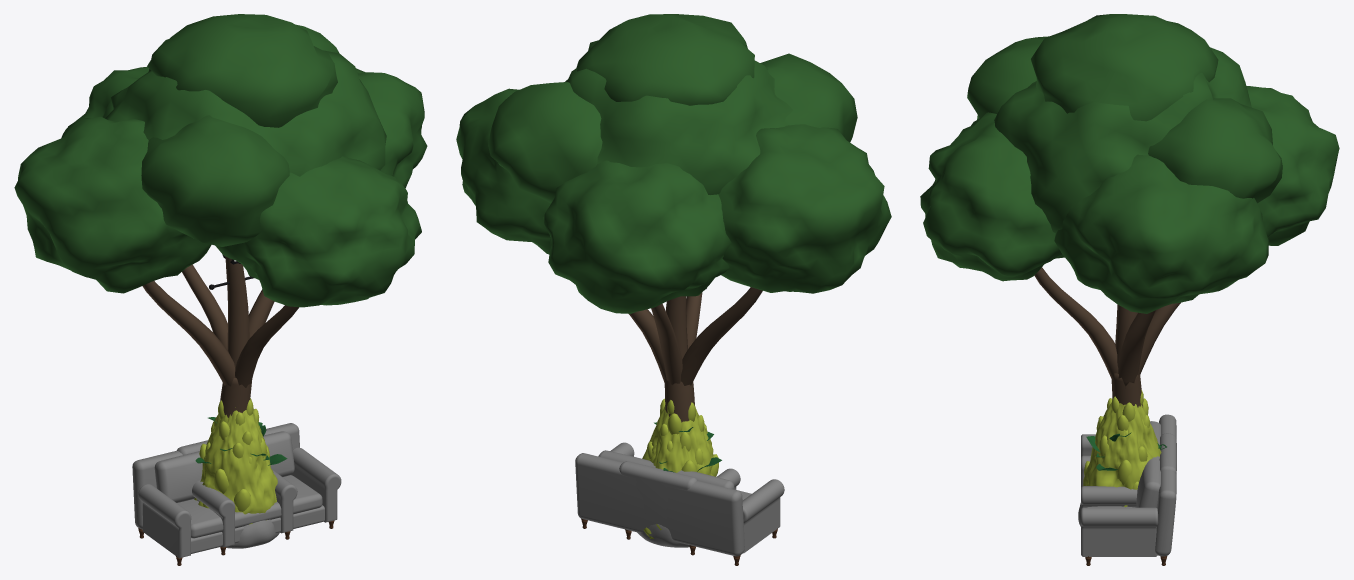
File: props.glb
3 views of the same model, side by side, from view 1: azimuth 30°, elevation 25°; view 2: azimuth 150°, elevation 25°; view 3: azimuth 270°, elevation 25° (orthographic).
Parts seen in each view (by area): view 1: tree, sofa, shrub, armchair, beanbag; view 2: tree, sofa, shrub, armchair, beanbag; view 3: tree, sofa, shrub, armchair.
Part boxes in pixels (x1,y1,x2,y2): tree: (14,14,427,417); sofa: (132,423,341,565); shrub: (194,398,277,524); armchair: (177,440,297,555); beanbag: (226,519,279,548); tree: (456,14,891,422); sofa: (575,442,784,565); shrub: (642,398,718,538); armchair: (619,461,740,555); beanbag: (637,524,689,547); tree: (920,14,1339,407); sofa: (1081,414,1176,565); shrub: (1083,390,1161,507); armchair: (1081,433,1176,508).
Size of the model in its own units: 4.56 by 5.51 by 4.12.
